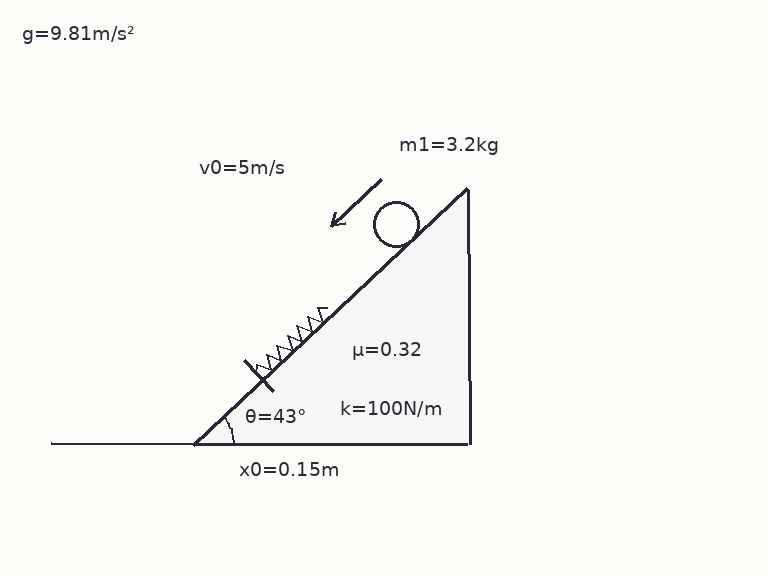ball: (371, 199, 421, 249)
ramp: (192, 186, 470, 446)
spring: (254, 305, 330, 375)
